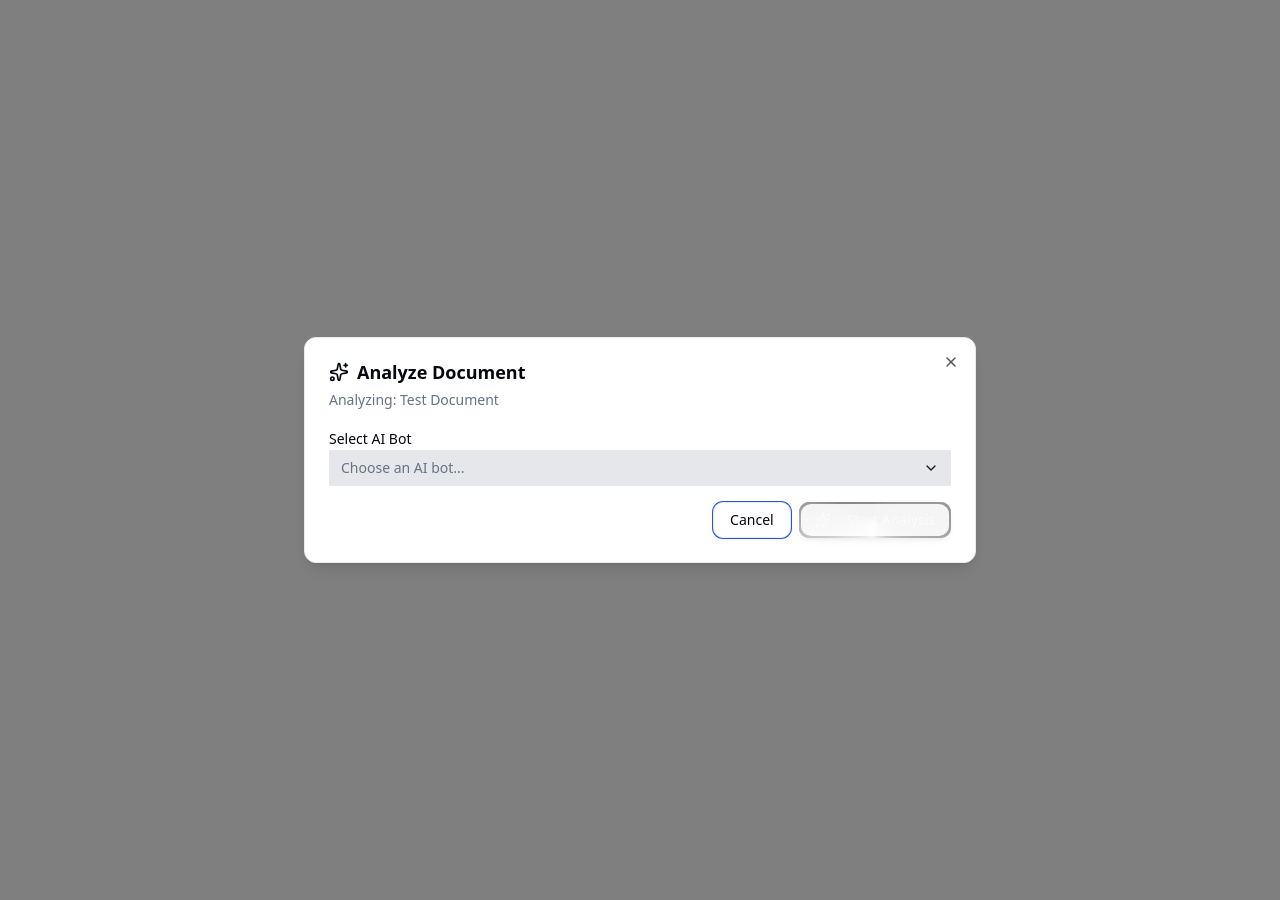
AnalyzeDocumentDialog › shows no correspondent message when suggestedCorrespondent is null
Click the dropdown with test id "select-bot" at point(403, 468), box [329,450,951,486]
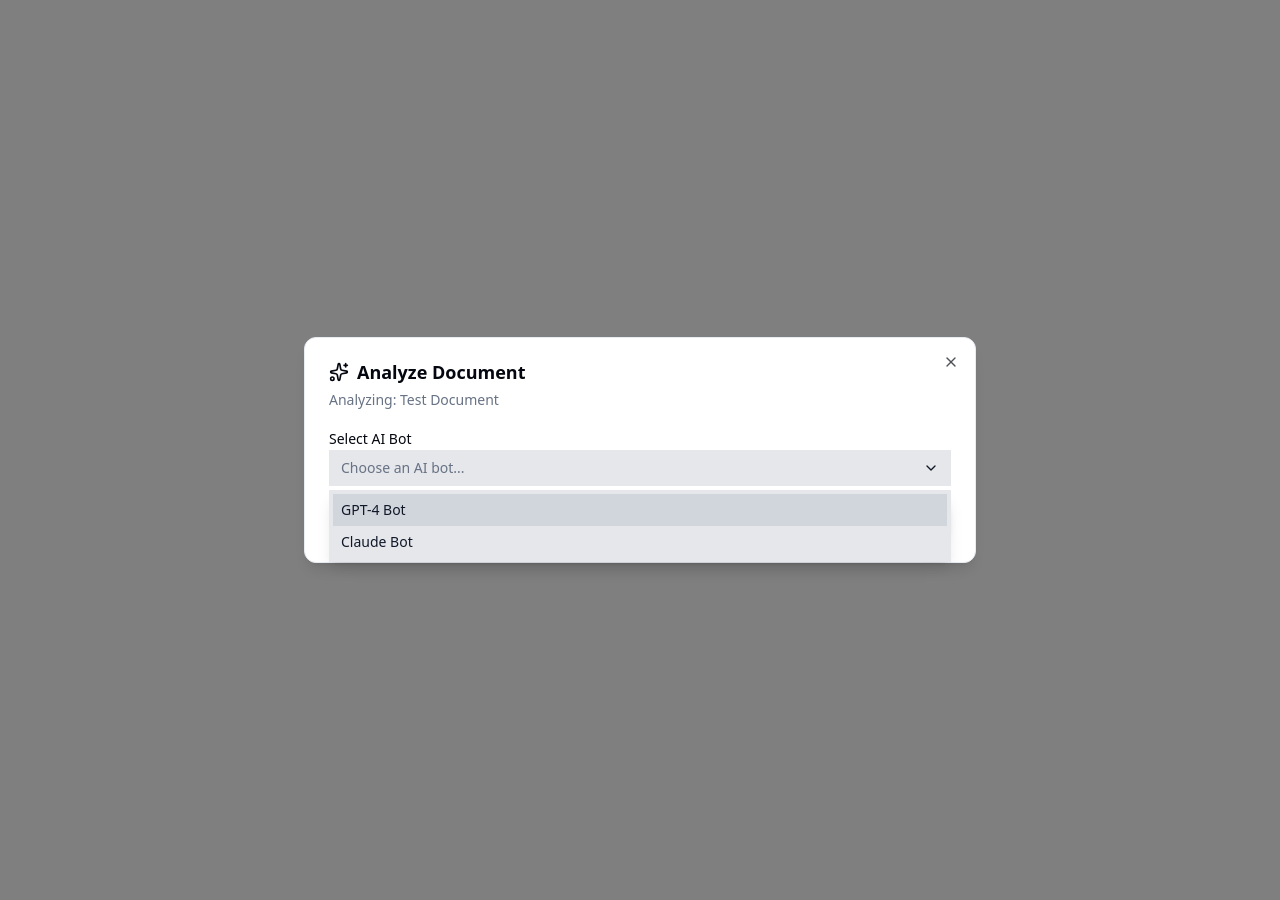
Click the option "GPT-4 Bot" at point(373, 510), box [333,494,947,526]
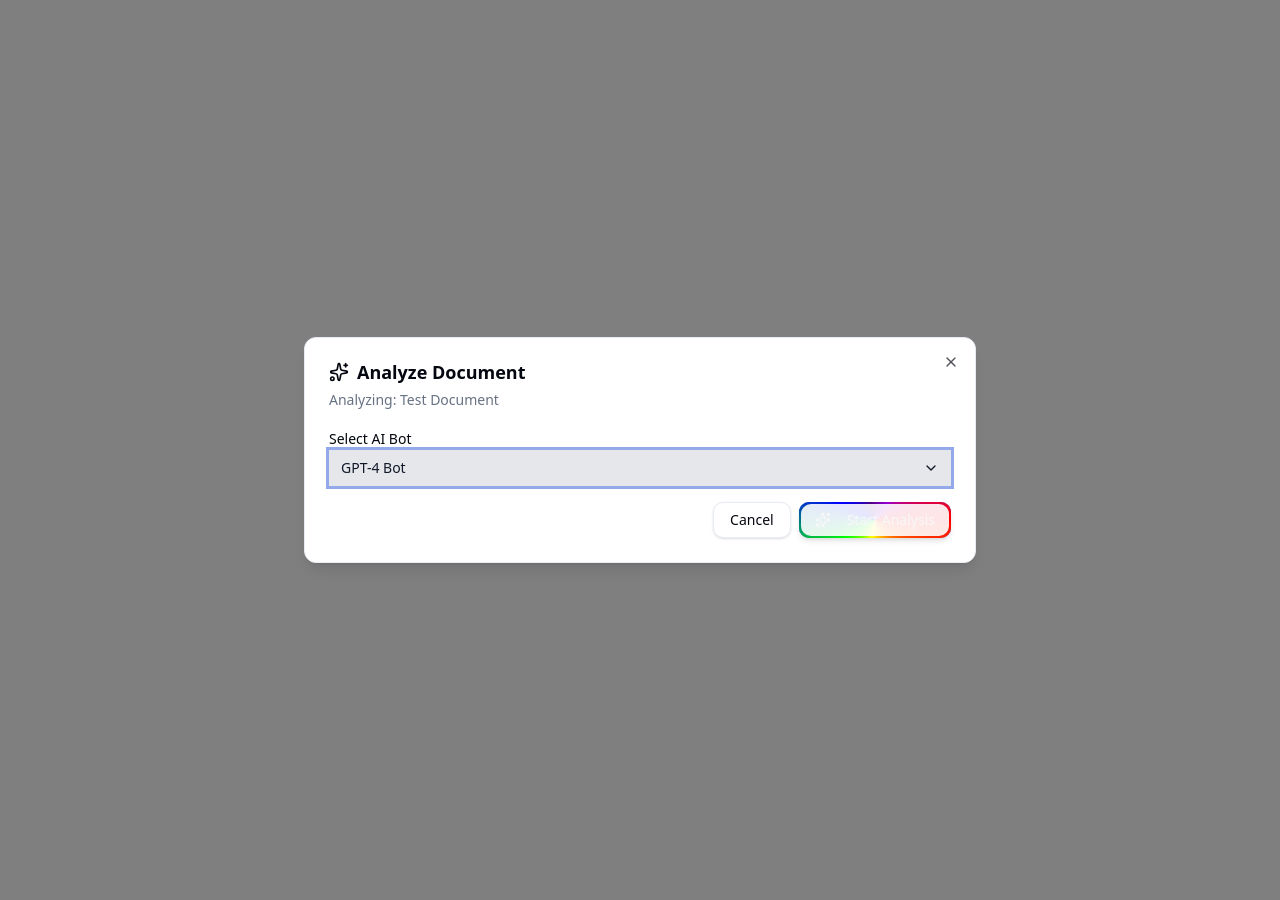
Click the button with test id "start-analysis" at point(875, 520), box [799,502,951,538]
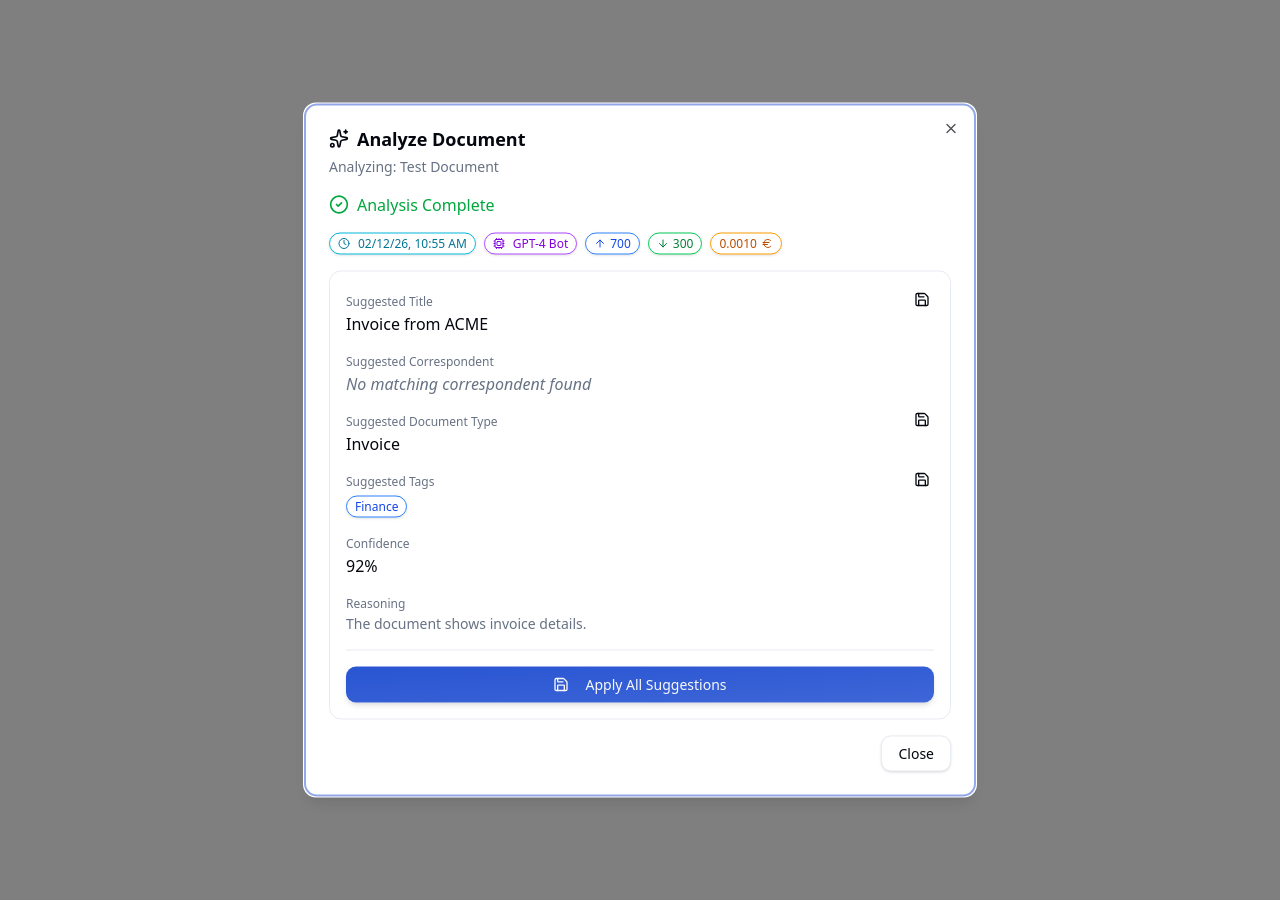
Expected: the text "No matching correspondent found" is shown, [346,372,591,394]
